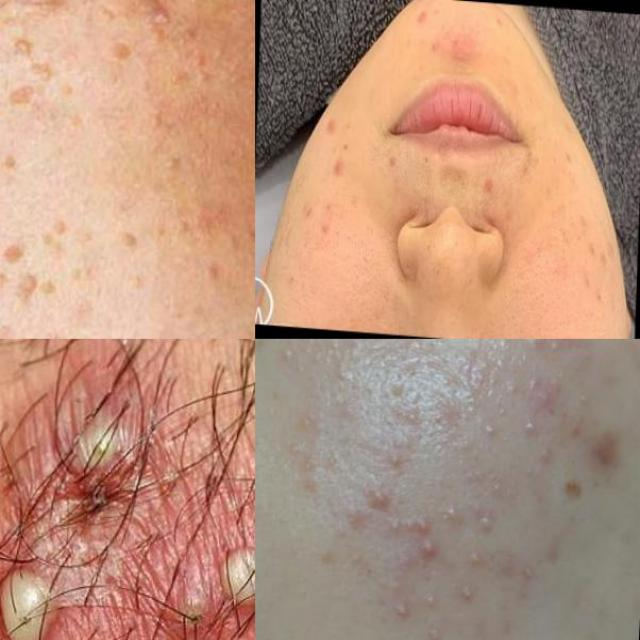8: (588, 425, 640, 477), (410, 0, 430, 40)
9: (398, 511, 448, 566), (376, 422, 419, 469), (360, 474, 395, 516), (464, 505, 496, 539), (424, 582, 456, 611), (388, 597, 413, 629), (467, 553, 495, 573), (457, 580, 475, 606)
blackheads: (580, 275, 608, 310), (317, 210, 335, 252), (328, 153, 346, 190), (577, 203, 597, 234), (324, 106, 339, 146), (585, 242, 610, 262)
dark spot: (277, 262, 299, 299)
whiteheads: (48, 369, 155, 529), (0, 552, 79, 640), (205, 527, 255, 619), (162, 578, 232, 640)
